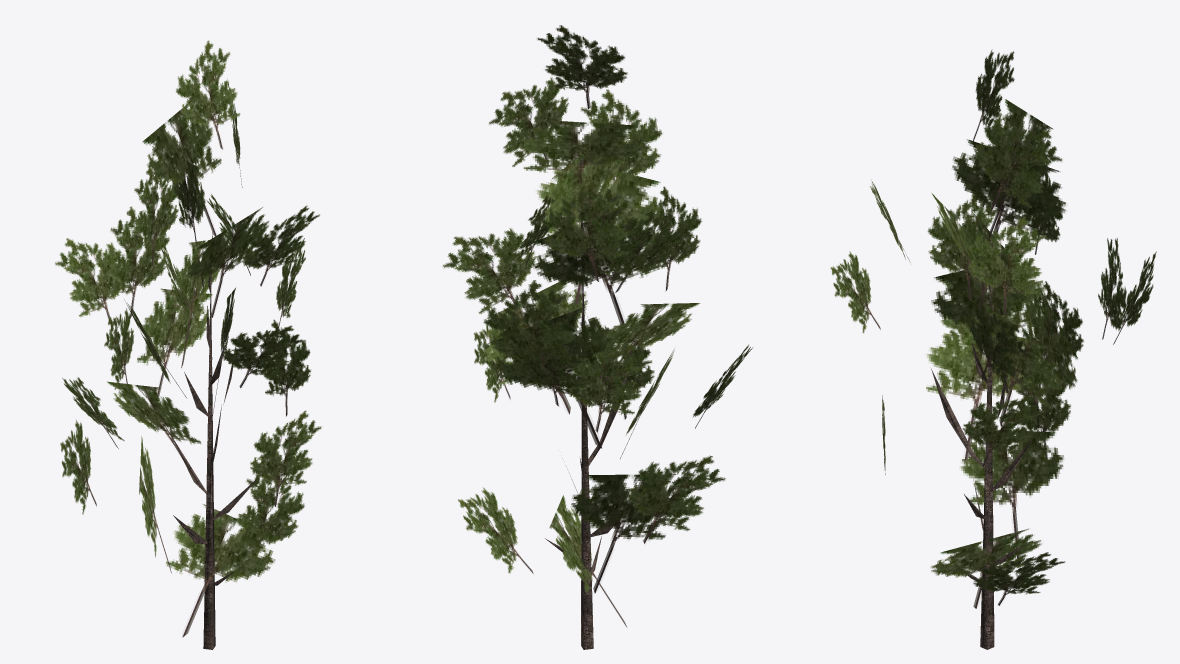
File: bush-medium.lod1.glb
3 views of the same model, side by side, from view 1: azimuth 30°, elevation 25°; view 2: azimuth 150°, elevation 25°; view 3: azimuth 270°, elevation 25° (orthographic). The views are drawn at different scales.
Visible parts, largest first — view 1: Object_17, Object_16; view 2: Object_17, Object_16; view 3: Object_17, Object_16.
Part boxes in pixels (<box>): Object_17: <box>55,40,321,637</box>; Object_16: <box>173,227,257,649</box>; Object_17: <box>443,25,752,627</box>; Object_16: <box>545,209,631,649</box>; Object_17: <box>830,49,1156,608</box>; Object_16: <box>931,229,1034,649</box>.
Bounding box in the file's own units: 0.7309 × 1.3 × 0.6818.
Materials: 2 (2 with a texture image).
